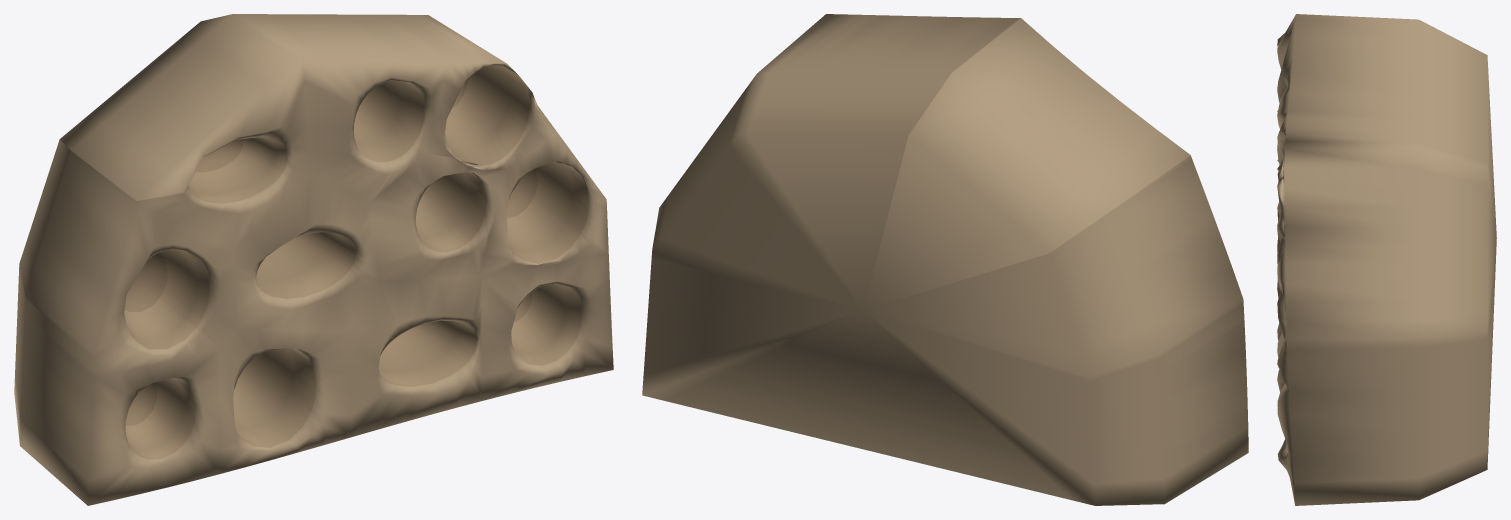
The model's file is tafoni-outcrop.glb.
The picture shows the model from 3 angles, left to right: view 1: azimuth 30°, elevation 25°; view 2: azimuth 150°, elevation 25°; view 3: azimuth 270°, elevation 25°; orthographic projection. The views are drawn at different scales.
Parts seen in each view (by area): view 1: continuous-weathered-rock-ribs-and-rounded-recesses; view 2: continuous-weathered-rock-ribs-and-rounded-recesses; view 3: continuous-weathered-rock-ribs-and-rounded-recesses.
Part boxes in pixels (x1,y1,x2,y2): continuous-weathered-rock-ribs-and-rounded-recesses: (14, 14, 613, 505); continuous-weathered-rock-ribs-and-rounded-recesses: (642, 14, 1248, 505); continuous-weathered-rock-ribs-and-rounded-recesses: (1277, 14, 1496, 505).
Size of the model in its own units: 0.9 by 0.625 by 0.353.
